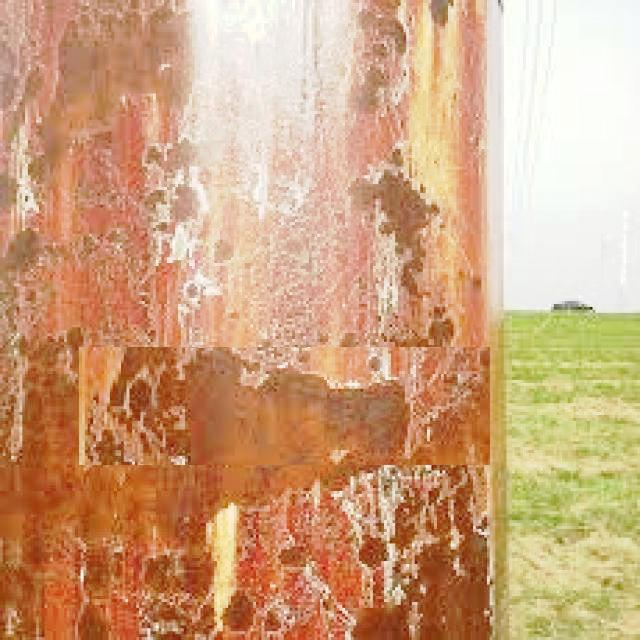Corrosion: (0, 0, 493, 640), (185, 347, 410, 474), (0, 343, 88, 640), (56, 0, 192, 142), (379, 468, 491, 640), (65, 466, 234, 558), (349, 148, 437, 300), (80, 348, 190, 466), (6, 229, 39, 270), (223, 592, 254, 632), (174, 185, 200, 221), (359, 537, 388, 568), (128, 379, 151, 412)
